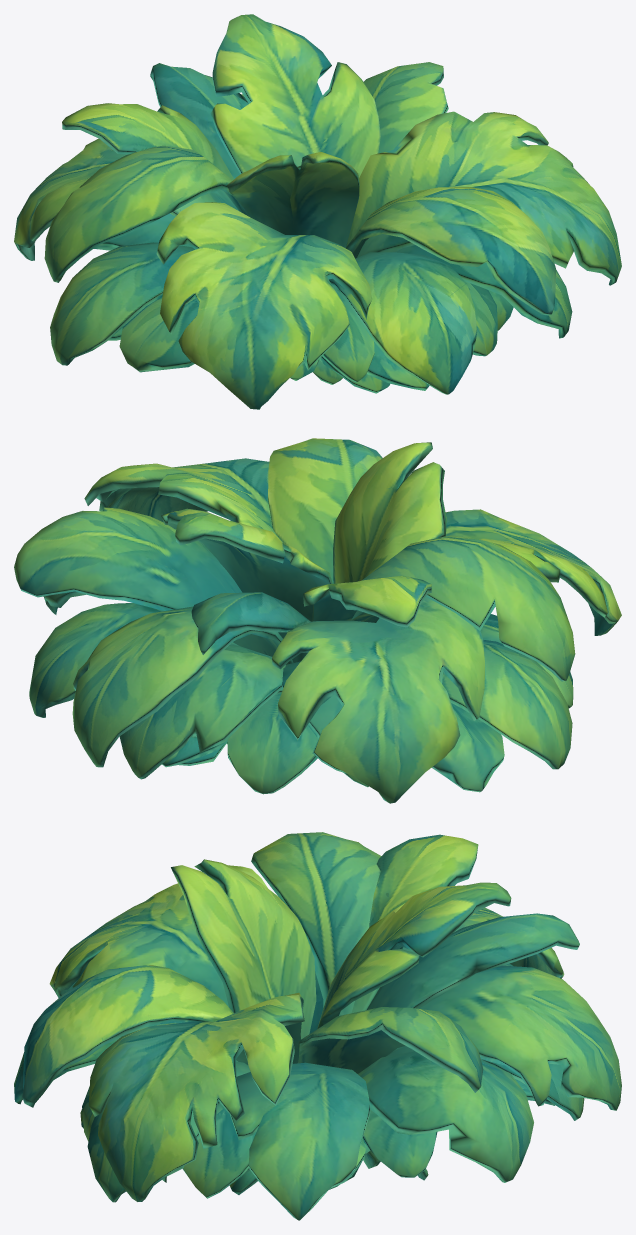
File: Meshy_AI_Emerald_Canopy_20261026_texture.fbx
3 views of the same model, one above another, from view 1: azimuth 30°, elevation 25°; view 2: azimuth 150°, elevation 25°; view 3: azimuth 270°, elevation 25° (orthographic). The views are drawn at different scales.
Parts seen in each view (by area): view 1: Mesh_0; view 2: Mesh_0; view 3: Mesh_0.
Part boxes in pixels (x1,y1,x2,y2): Mesh_0: (14, 14, 621, 409); Mesh_0: (14, 438, 621, 803); Mesh_0: (14, 832, 621, 1220).
Size of the model in its own units: 100 by 52.24 by 99.97.
Materials: 1 (1 with a texture image).
